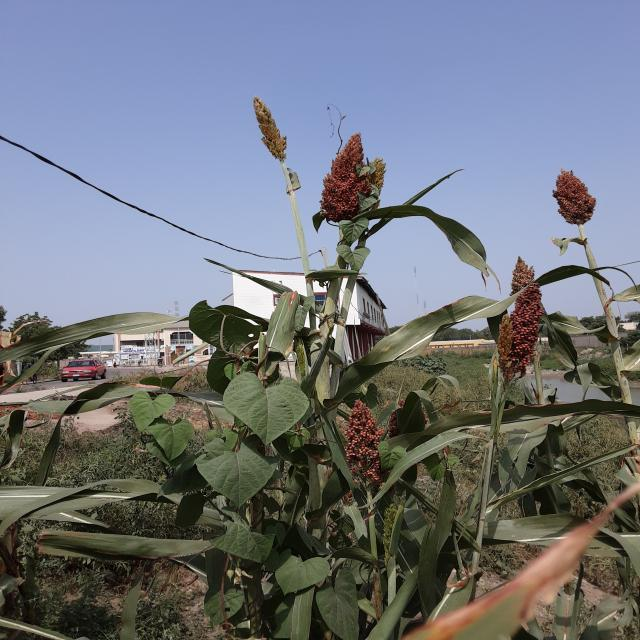RipeSorghum: (318, 392, 408, 479), (531, 153, 616, 229), (489, 283, 561, 352), (319, 126, 371, 219)
